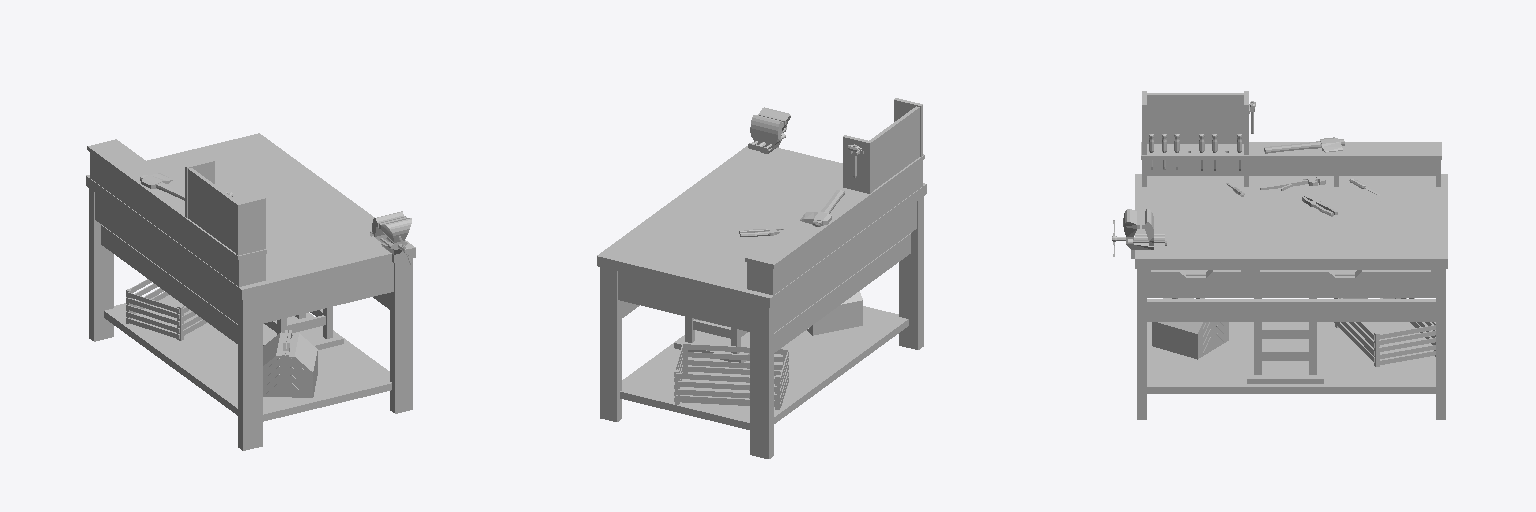
Rendered from Wooden workbench.obj.
3 views of the same model, side by side, from view 1: azimuth 30°, elevation 25°; view 2: azimuth 150°, elevation 25°; view 3: azimuth 270°, elevation 25° (orthographic).
Parts seen in each view (by area): view 1: Workbench, Tool_Box, Wooden_box, Stool, Vise, Axe; view 2: Workbench, Wooden_box, Stool, Vise, Tool_Box, Axe; view 3: Workbench, Stool, Wooden_box, Tool_Box, Vise, Axe.
Part boxes in pixels (x1,y1,x2,y2): Workbench: (86,133,415,450); Tool_Box: (263,330,317,397); Wooden_box: (126,279,207,340); Stool: (263,307,343,349); Vise: (370,211,412,264); Axe: (140,173,184,200); Workbench: (597,98,926,458); Wooden_box: (674,342,788,409); Stool: (674,316,749,362); Vise: (748,107,790,153); Tool_Box: (807,291,862,335); Axe: (800,190,844,226); Workbench: (1135,91,1447,419); Stool: (1247,298,1323,383); Wooden_box: (1334,298,1435,366); Tool_Box: (1152,298,1228,359); Vise: (1112,209,1166,258); Axe: (1264,137,1344,153).
Size of the model in its own units: 0.9019 by 1.21 by 1.5.